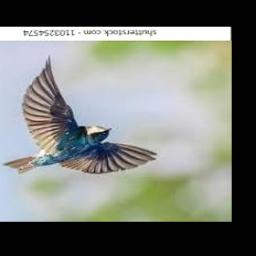Swallow: (2, 55, 158, 176)
